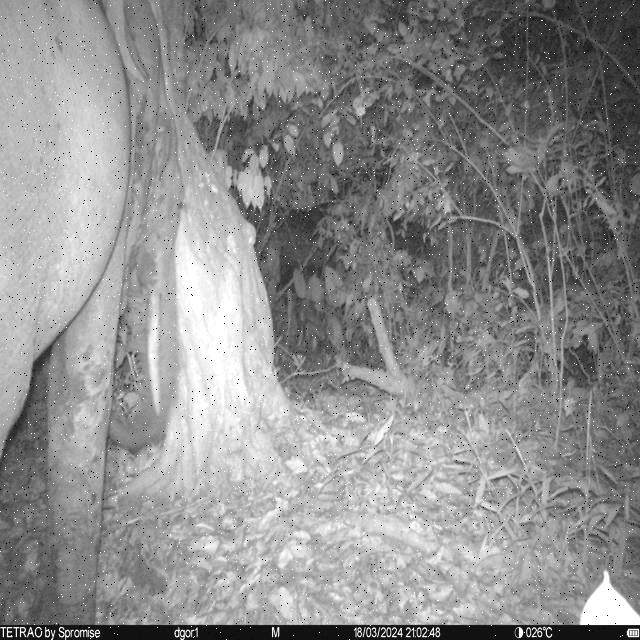elephant: (0, 0, 187, 627)
tusk: (144, 294, 164, 419)
